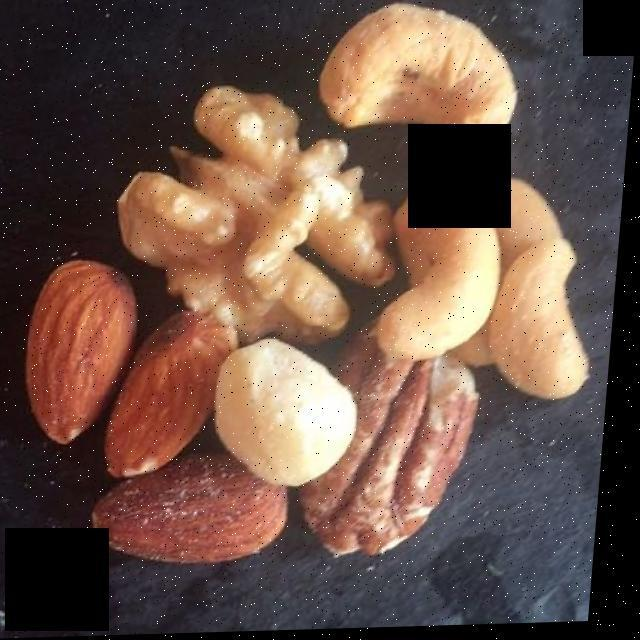mixed-nuts: (16, 10, 618, 585)
